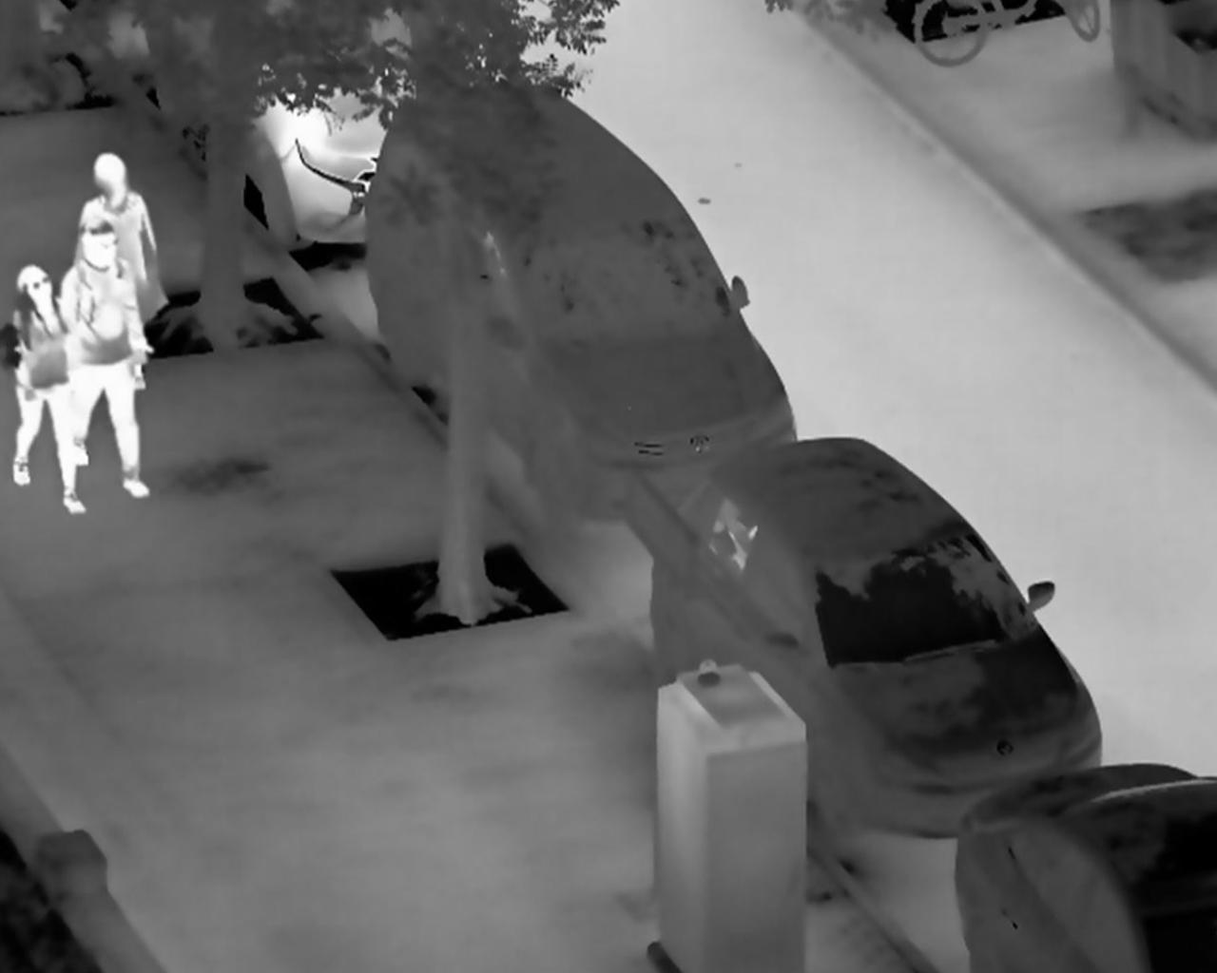person: (51, 222, 152, 502), (11, 258, 87, 517), (73, 143, 173, 329)
